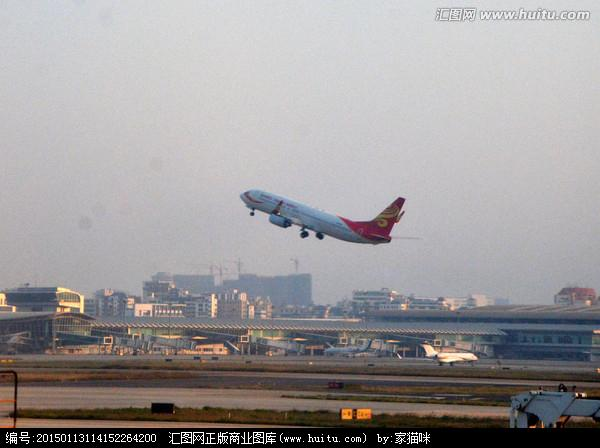airplane: (236, 182, 411, 248)
